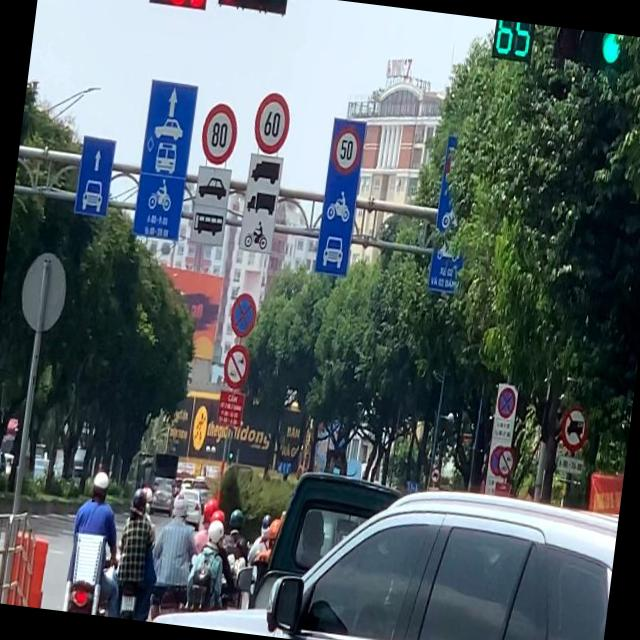P-127: (198, 102, 241, 168), (252, 92, 290, 158)
P-130: (228, 288, 258, 339)
